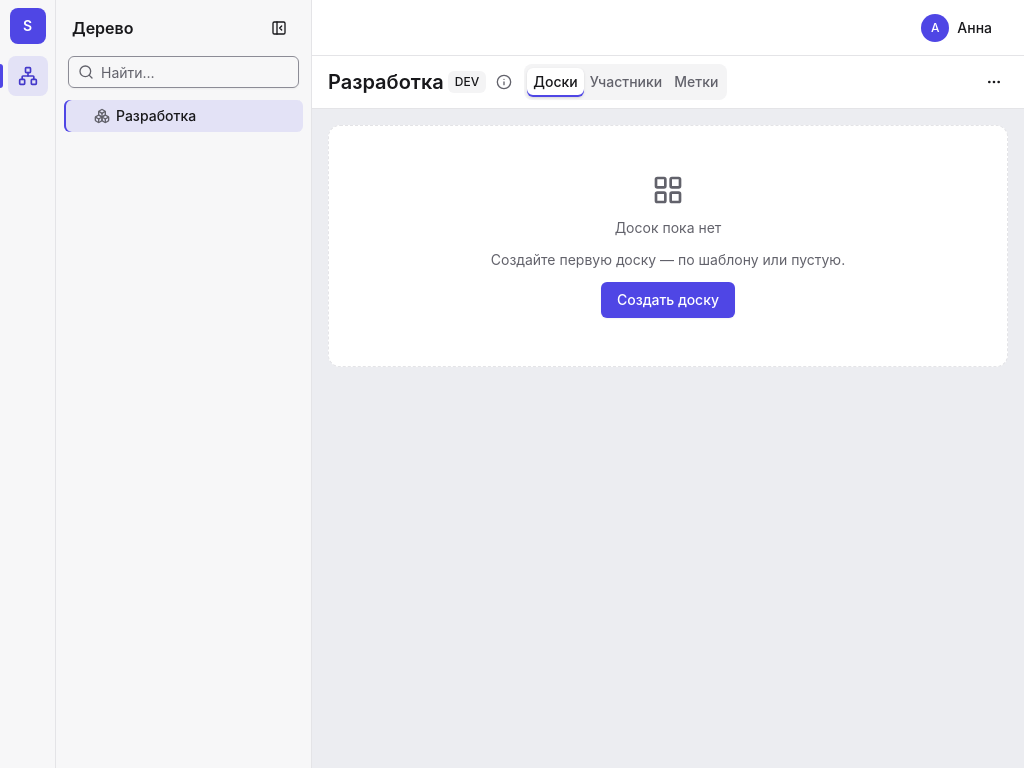
Test: Страница пространства › администратор включает режим «только свои карточки» участнику
Click the tab "Участники".
click(626, 82)  # box 584,68 -> 668,96
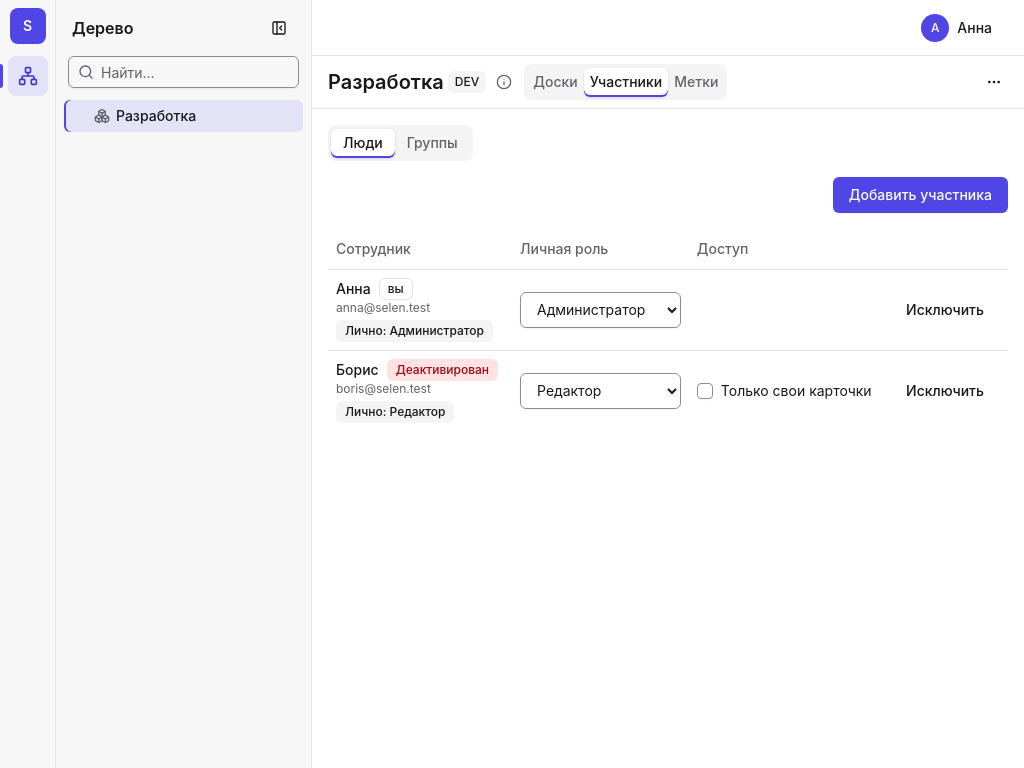
Now the checkbox named "Только свои карточки: Борис" is shown
Click the checkbox named "Только свои карточки: Борис".
click(705, 390)  # box 697,382 -> 713,398
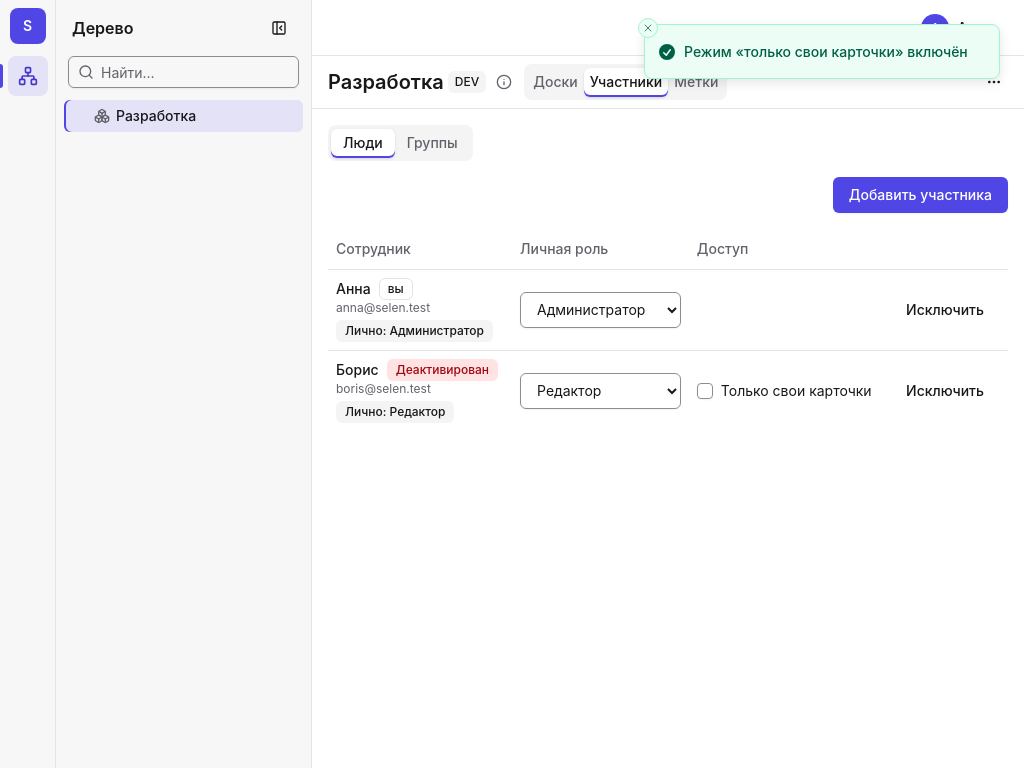
Now the text "Режим «только свои карточки» включён" is shown, box 684,41 -> 968,62
